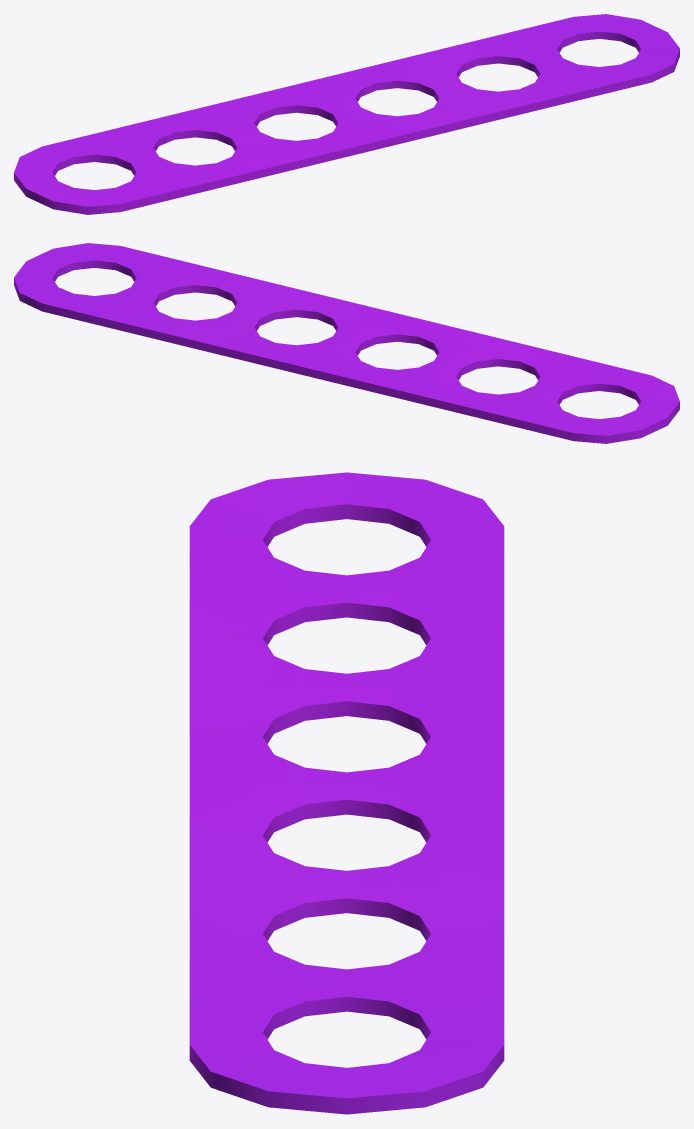
Rendered from SixLongPink.fbx.
The picture shows the model from 3 angles, top to bottom: view 1: azimuth 30°, elevation 25°; view 2: azimuth 150°, elevation 25°; view 3: azimuth 270°, elevation 25°; orthographic projection. The views are drawn at different scales.
Visible parts, largest first — view 1: Blue6; view 2: Blue6; view 3: Blue6.
Boxes of the visible parts, x1,y1,x2,y2 form: Blue6: (14,14,679,214); Blue6: (14,243,679,443); Blue6: (189,472,504,1114).
Size of the model in its own units: 16.25 by 0.1942 by 3.45.
